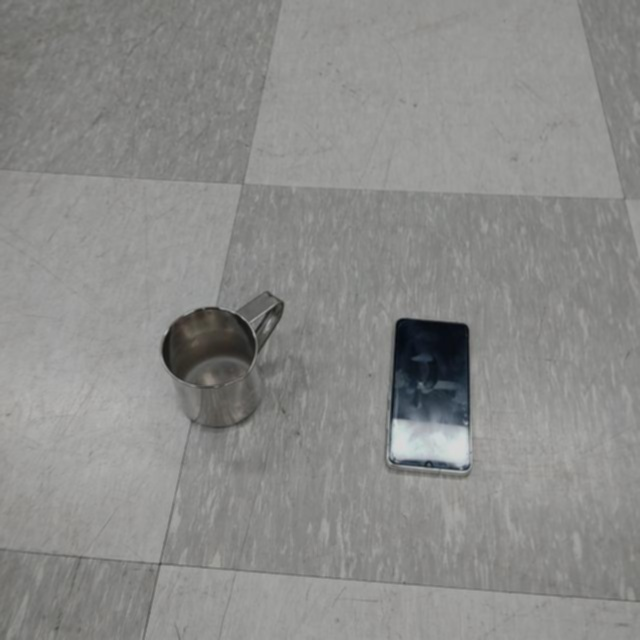cup: (163, 291, 285, 430)
phone: (384, 317, 475, 473)
